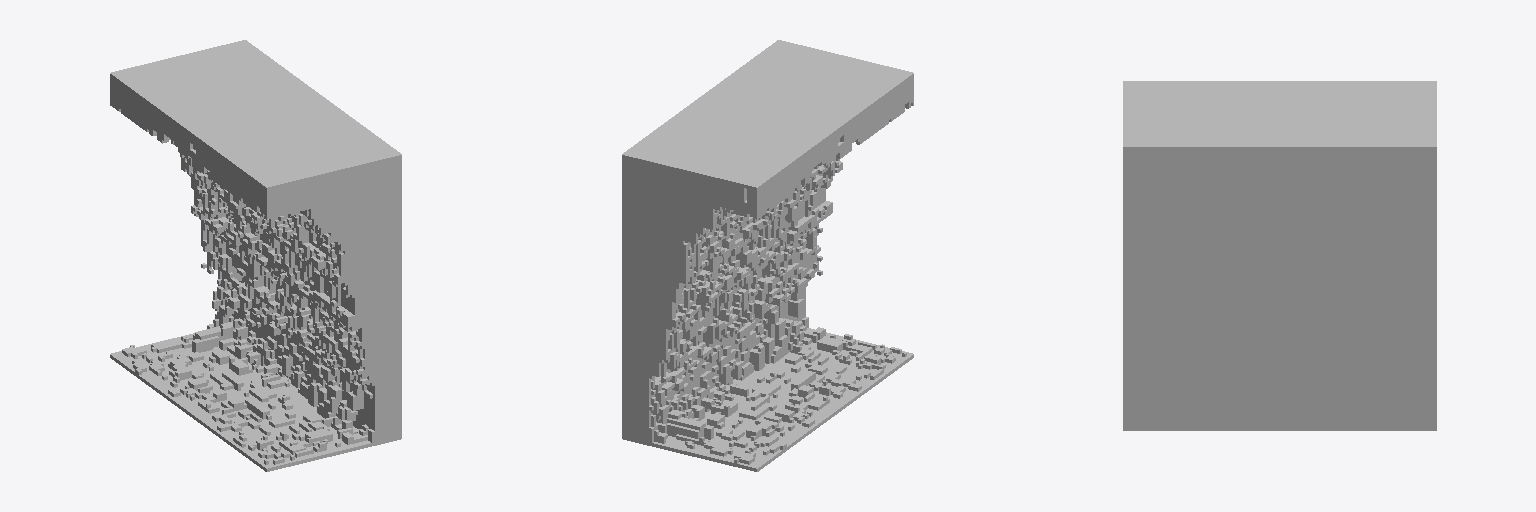
The model's file is rock wall 1.obj.
3 views of the same model, side by side, from view 1: azimuth 30°, elevation 25°; view 2: azimuth 150°, elevation 25°; view 3: azimuth 270°, elevation 25° (orthographic).
Parts seen in each view (by area): view 1: rock wall 1; view 2: rock wall 1; view 3: rock wall 1.
Boxes of the visible parts, box(x1,y1,x2,y2) form: rock wall 1: box(110, 40, 401, 471); rock wall 1: box(622, 40, 913, 471); rock wall 1: box(1123, 81, 1436, 430).
Bounding box in the file's own units: 40 × 80 × 80.